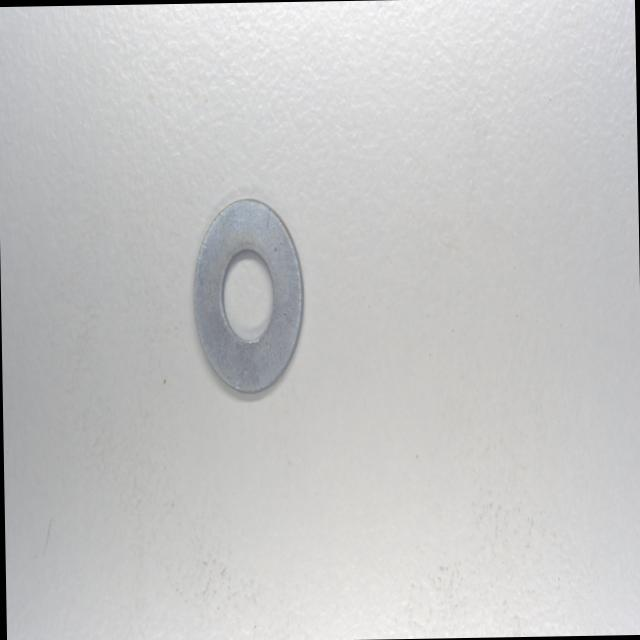washer: (187, 192, 304, 396)
